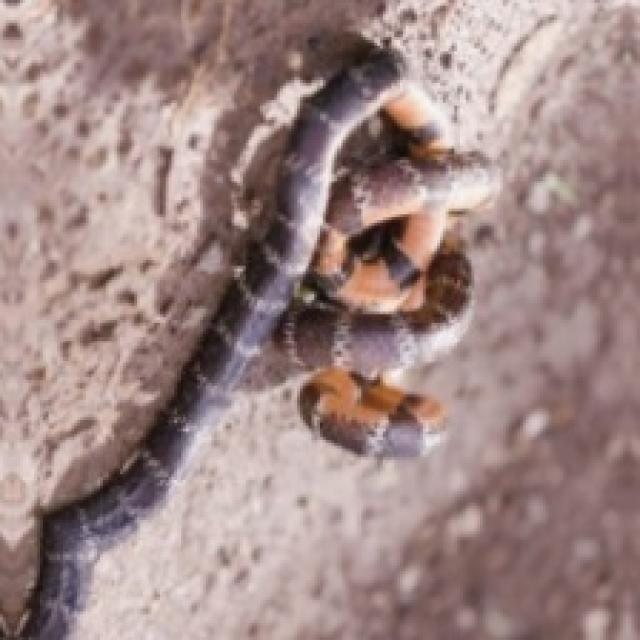barredcoral snake: (29, 40, 443, 637), (260, 83, 491, 454)
